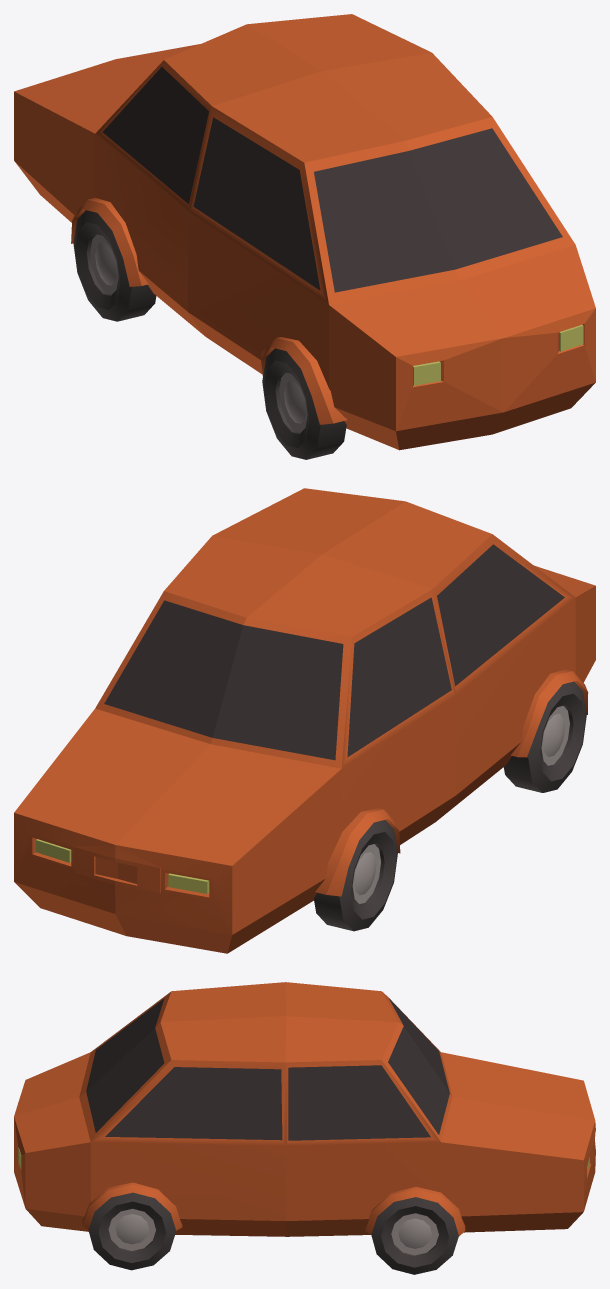
Rendered from car.fbx.
3 renders of one model, top to bottom at view 1: azimuth 30°, elevation 25°; view 2: azimuth 150°, elevation 25°; view 3: azimuth 270°, elevation 25°, orthographic. The views are drawn at different scales.
Parts seen in each view (by area): view 1: pCube3, pCylinder7; view 2: pCube3, pCylinder7; view 3: pCube3, pCylinder8.
Part boxes in pixels (bbox=[...]): pCube3: bbox=[14, 14, 595, 450]; pCylinder7: bbox=[71, 197, 347, 459]; pCube3: bbox=[14, 488, 595, 953]; pCylinder7: bbox=[314, 669, 588, 931]; pCube3: bbox=[14, 982, 595, 1236]; pCylinder8: bbox=[82, 1182, 465, 1274].
Size of the model in its own units: 1.36 by 1.32 by 3.32.
